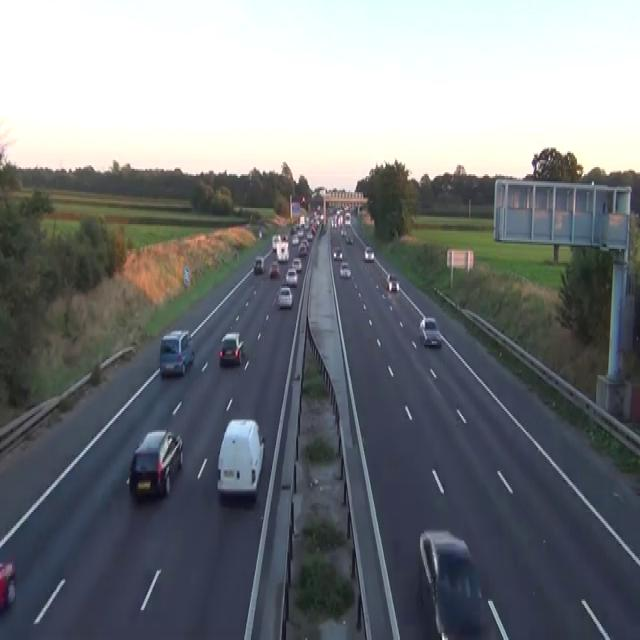Car: (418, 528, 483, 638), (127, 428, 183, 499), (159, 329, 194, 377), (218, 330, 244, 364), (0, 560, 16, 612), (419, 316, 441, 346), (277, 286, 293, 308), (423, 329, 441, 347), (387, 272, 399, 292), (285, 267, 297, 286), (253, 256, 264, 274), (339, 260, 350, 278), (364, 244, 374, 262), (269, 262, 279, 278), (332, 246, 343, 260), (298, 240, 307, 256), (292, 258, 302, 270), (291, 235, 299, 245), (345, 234, 353, 243), (340, 226, 346, 236), (297, 228, 303, 238), (330, 217, 336, 227), (290, 226, 297, 234), (321, 222, 326, 233), (282, 233, 288, 242), (306, 231, 312, 240), (258, 228, 262, 238), (301, 195, 305, 202)
Truck: (216, 418, 264, 500), (276, 240, 289, 261)
